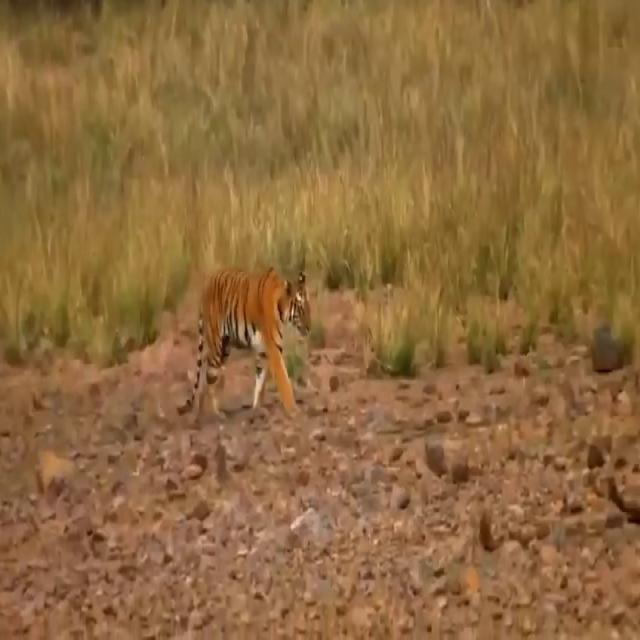tiger: (177, 265, 312, 424)
